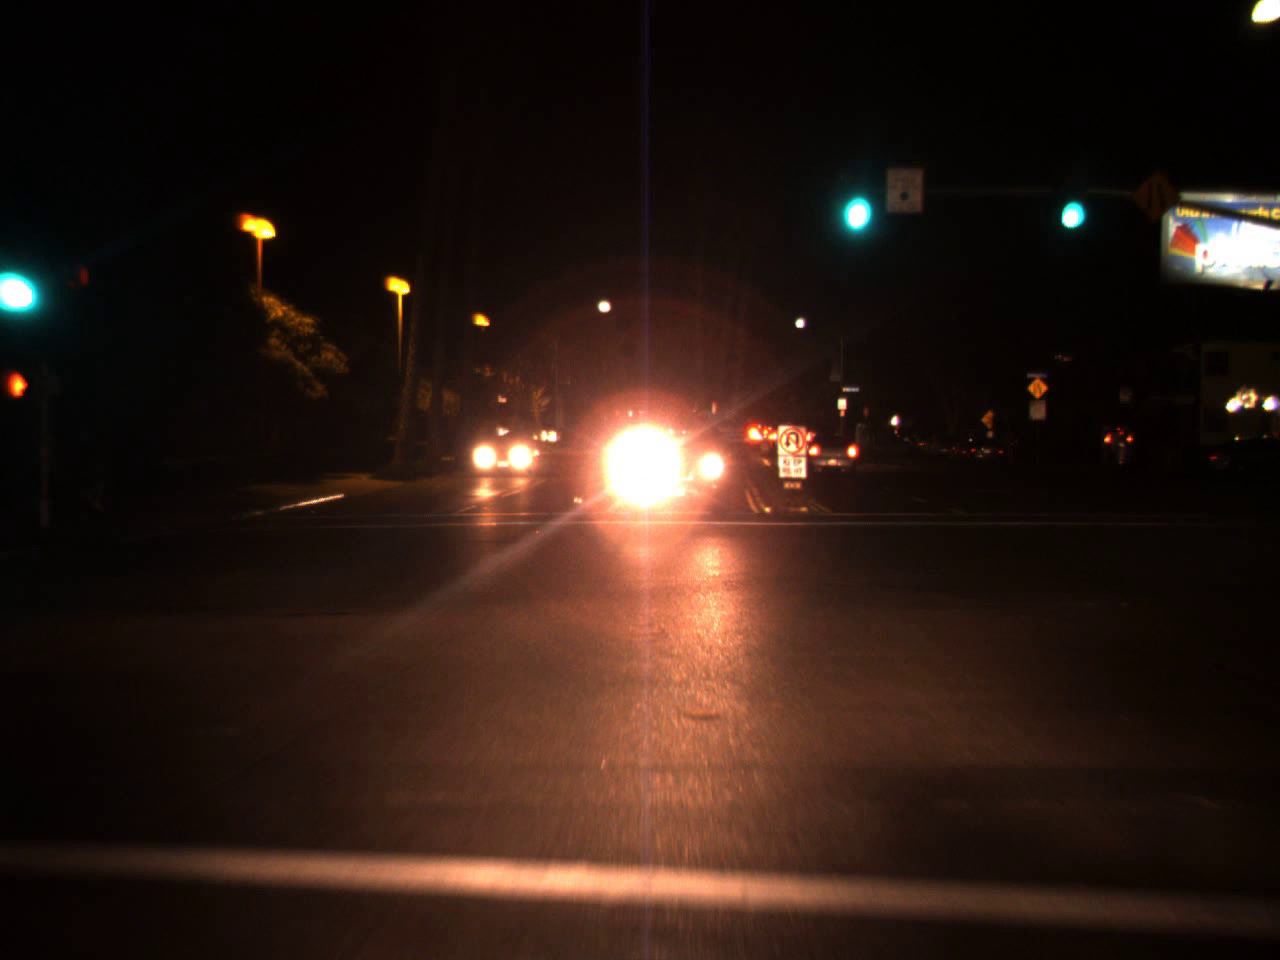go: (831, 155, 877, 242), (0, 239, 35, 320), (1051, 167, 1090, 239)
